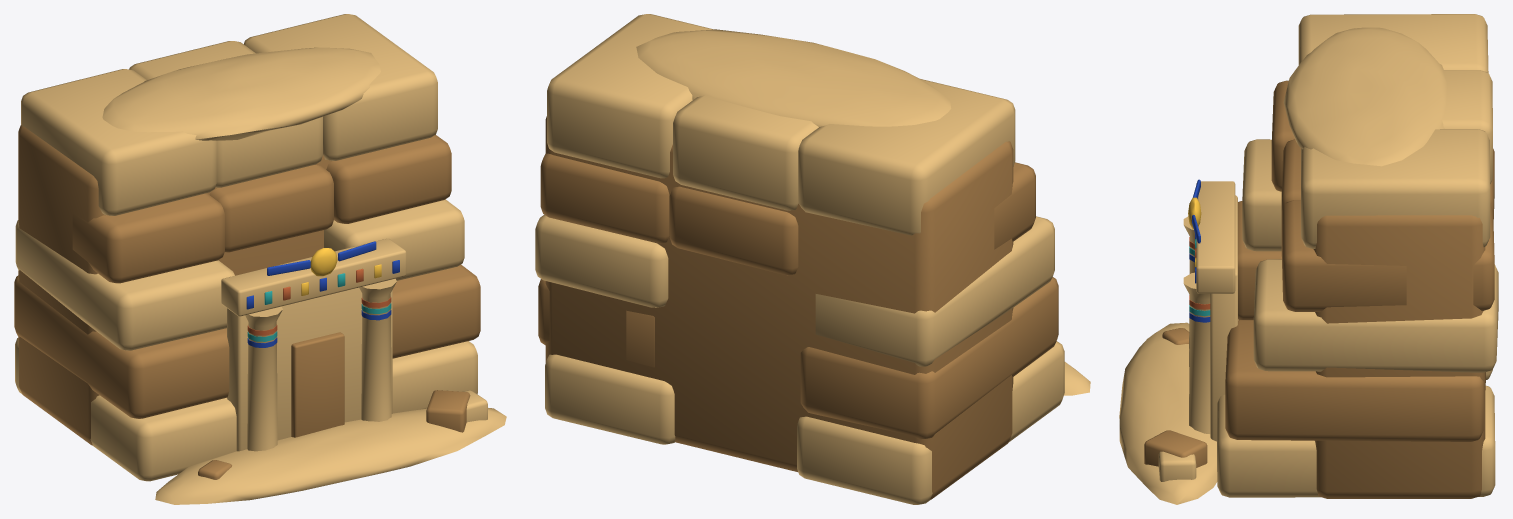
The model's file is SandCliffB.fbx.
3 views of the same model, side by side, from view 1: azimuth 30°, elevation 25°; view 2: azimuth 150°, elevation 25°; view 3: azimuth 270°, elevation 25° (orthographic). The views are drawn at different scales.
Visible parts, largest first — view 1: SandCliffB; view 2: SandCliffB; view 3: SandCliffB.
Boxes of the visible parts, x1,y1,x2,y2 form: SandCliffB: [14, 14, 506, 504]; SandCliffB: [535, 14, 1090, 504]; SandCliffB: [1119, 14, 1498, 504].
Bounding box in the file's own units: 7.83 × 6.57 × 6.82.
Materials: 1 (1 with a texture image).
